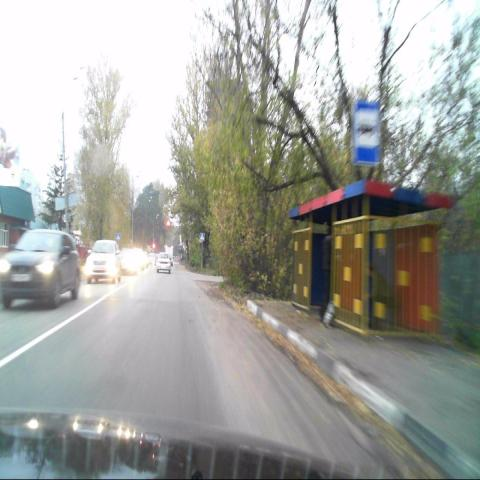5_16: (352, 100, 381, 167)
